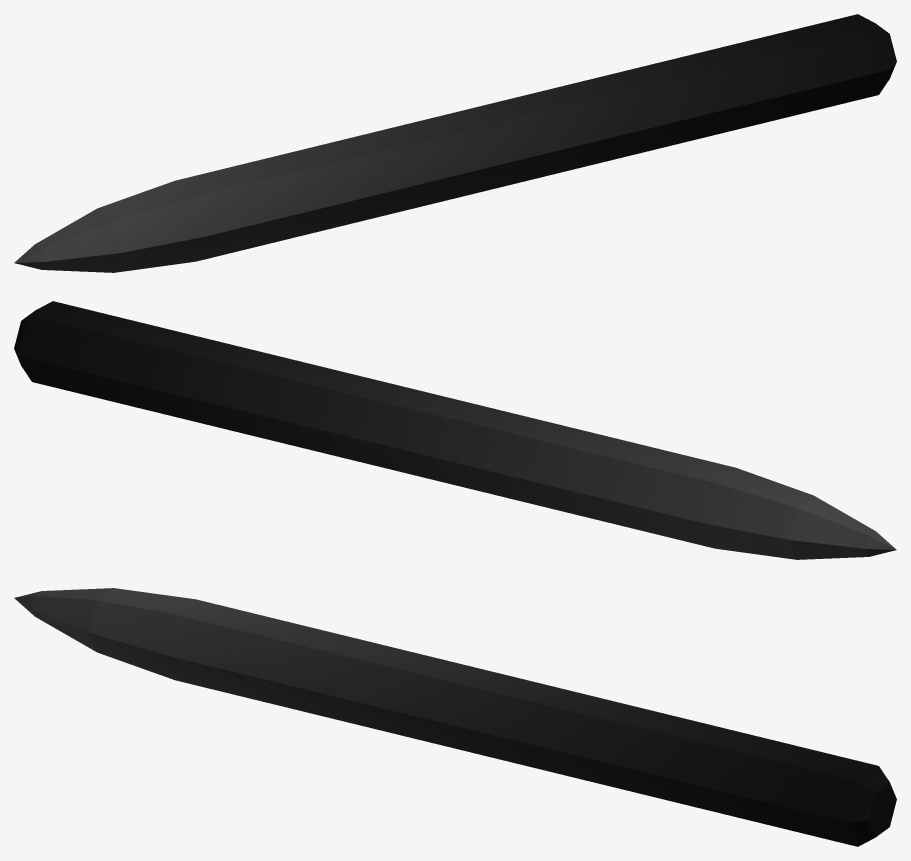
The model's file is Pen.fbx.
The picture shows the model from 3 angles, top to bottom: view 1: azimuth 30°, elevation 25°; view 2: azimuth 150°, elevation 25°; view 3: azimuth 330°, elevation 25°; orthographic projection.
Visible parts, largest first — view 1: Pen; view 2: Pen; view 3: Pen.
Boxes of the visible parts, left/top/right/bottom form: Pen: left=14, top=14, right=896, bottom=272; Pen: left=14, top=301, right=896, bottom=559; Pen: left=14, top=588, right=896, bottom=846.
Size of the model in its own units: 12.14 by 0.8765 by 1.01.
